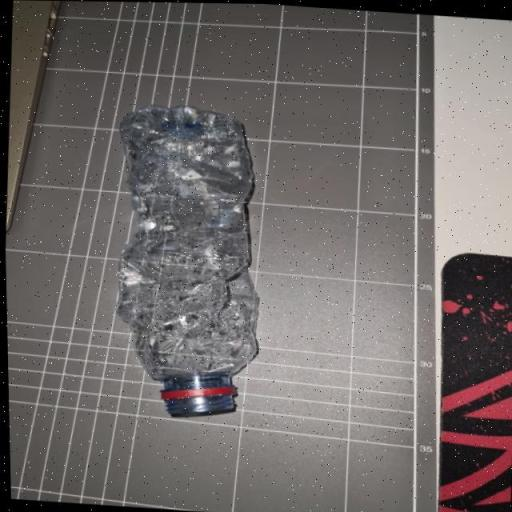plastic: (98, 102, 284, 426)
